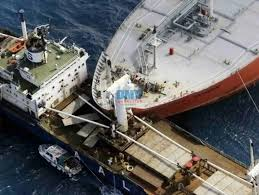tau_dansu: (5, 25, 259, 195), (99, 1, 259, 115)
